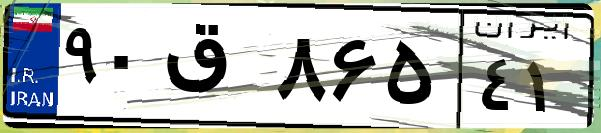0: (110, 28, 158, 98)
1: (525, 38, 570, 115)
4: (475, 38, 525, 113)
5: (385, 28, 445, 110)
6: (330, 28, 385, 110)
8: (270, 28, 330, 110)
9: (57, 26, 110, 100)
ق: (158, 20, 270, 120)
